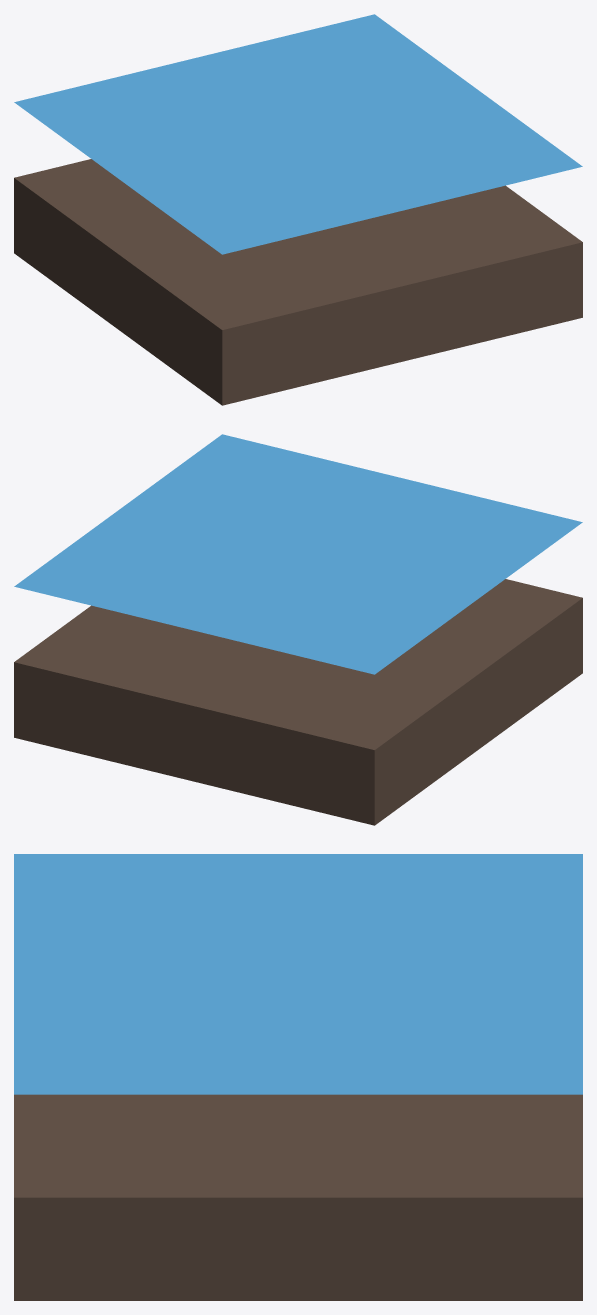
Rendered from water-tile_01_small.fbx.
3 views of the same model, one above another, from view 1: azimuth 30°, elevation 25°; view 2: azimuth 150°, elevation 25°; view 3: azimuth 270°, elevation 25° (orthographic). The views are drawn at different scales.
Parts seen in each view (by area): view 1: water-tile_01_small; view 2: water-tile_01_small; view 3: water-tile_01_small.
Part boxes in pixels (x1=…): water-tile_01_small: x1=14, y1=14, x2=582, y2=405; water-tile_01_small: x1=14, y1=434, x2=582, y2=825; water-tile_01_small: x1=14, y1=854, x2=582, y2=1300.
Bounding box in the file's own units: 1000 × 400 × 1000.
